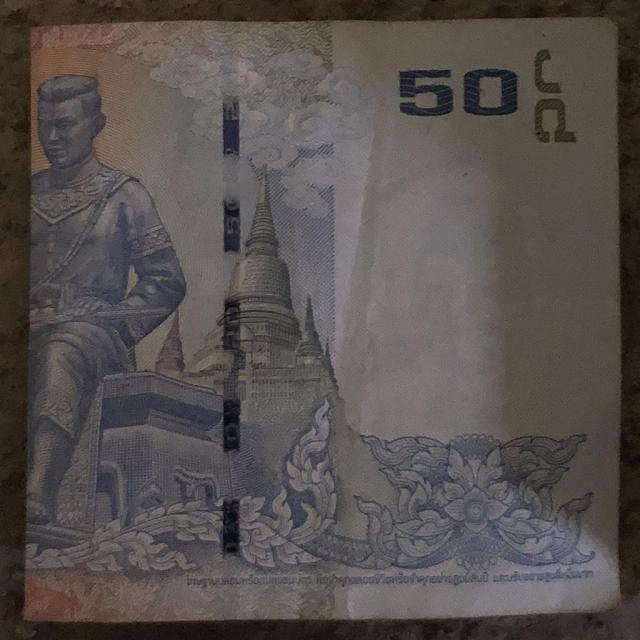THAI50: (24, 19, 620, 622)
